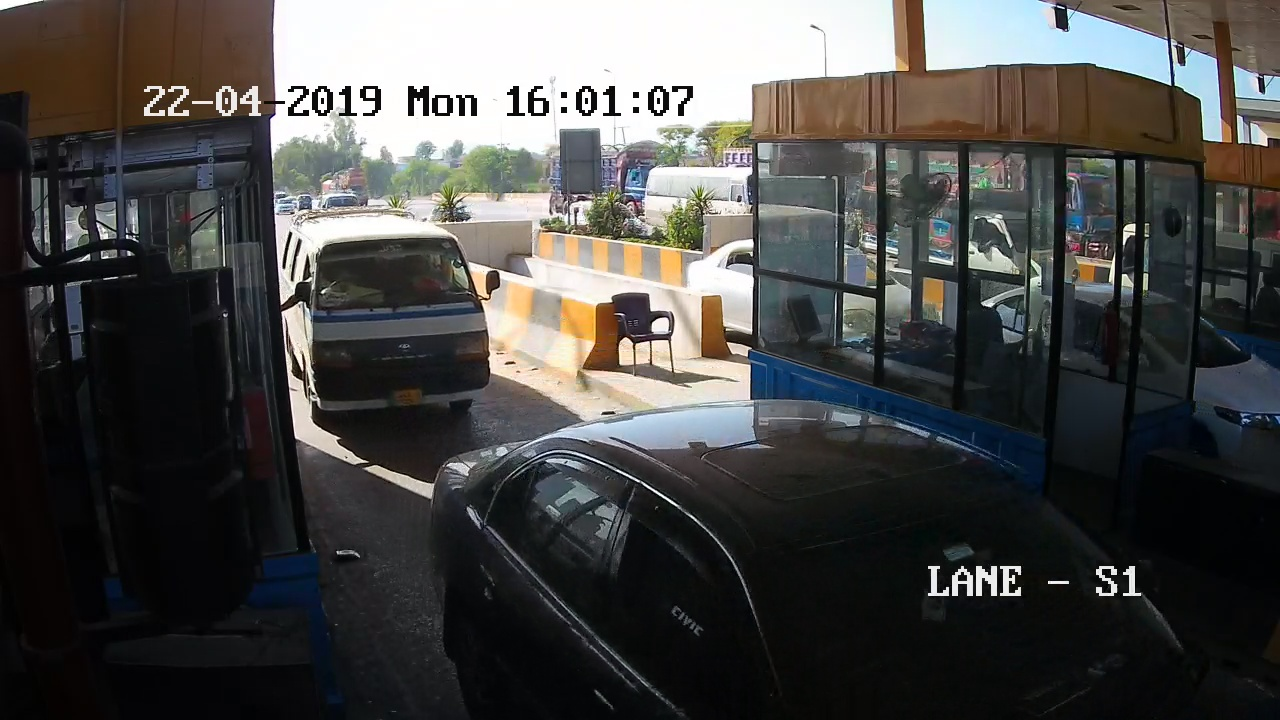car: (284, 207, 501, 441)
